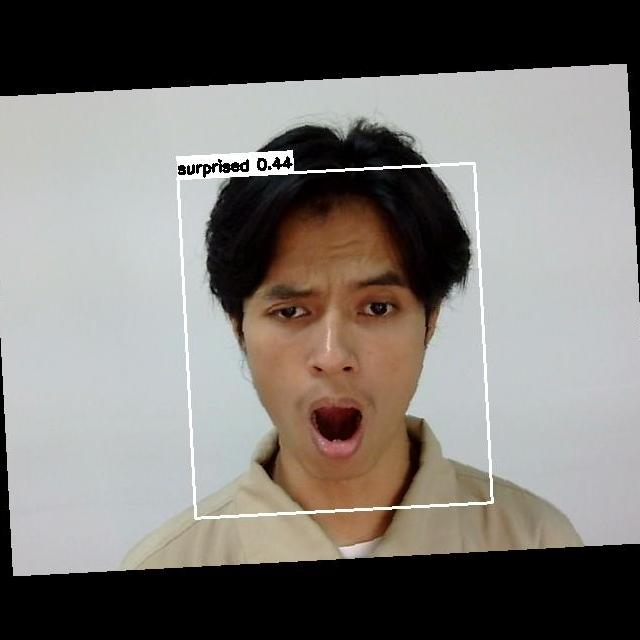Surprised: (243, 249, 430, 469)
